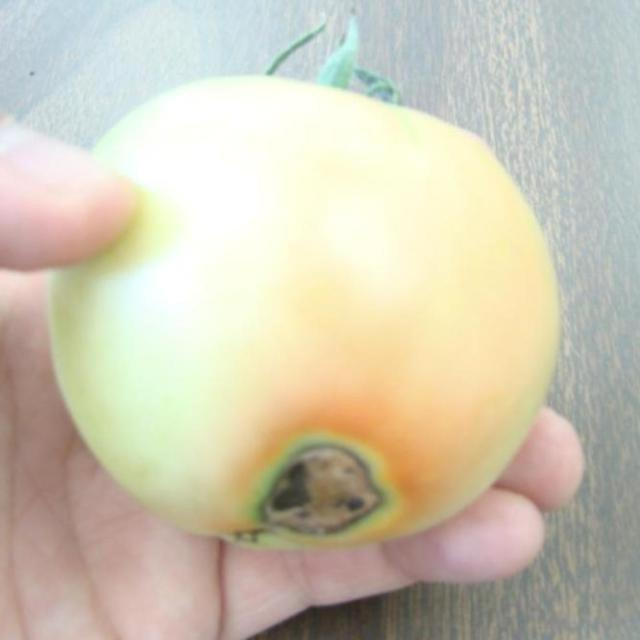Blossom End Rot Fruit: (146, 283, 258, 364)
